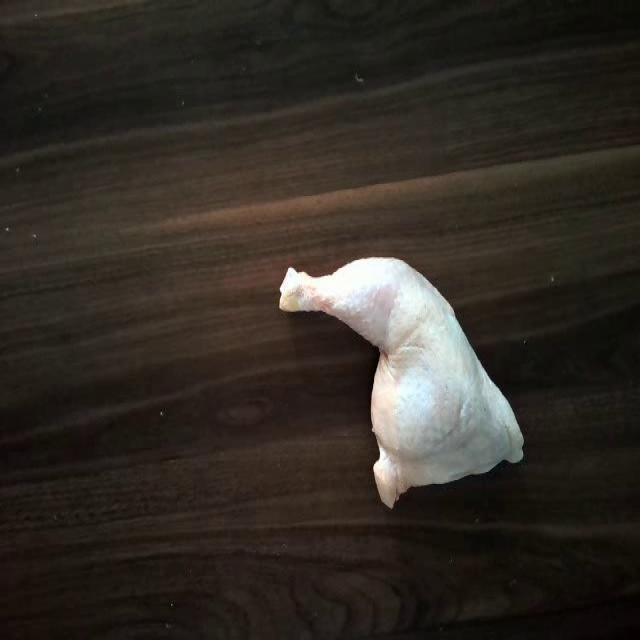quater: (274, 261, 530, 518)
